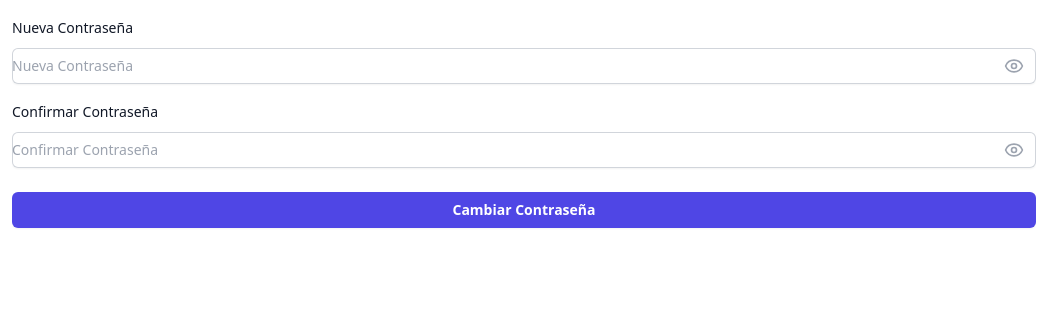
Test: ResetPasswordForm Component › submits form and shows success message
The width and height of the screenshot is (1048, 321).
# Fill form
Type "password123" into the password field labelled "Nueva Contraseña" at (524, 66), box x1=12 y1=48 x2=1036 y2=84
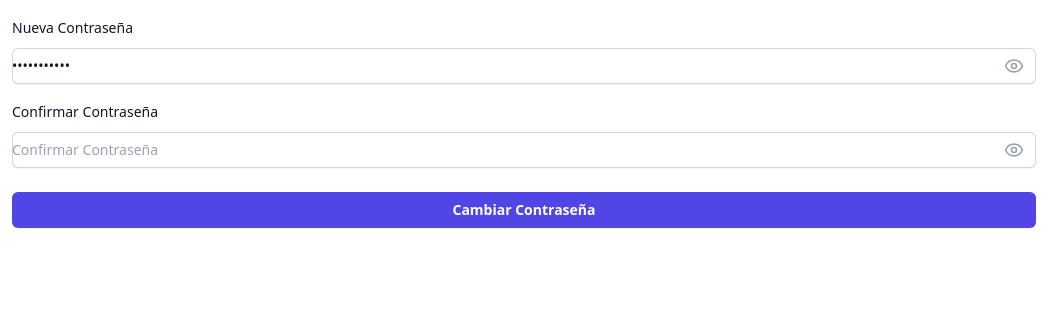
Type "password123" into the password field labelled "Confirmar Contraseña" at (524, 150), box x1=12 y1=132 x2=1036 y2=168
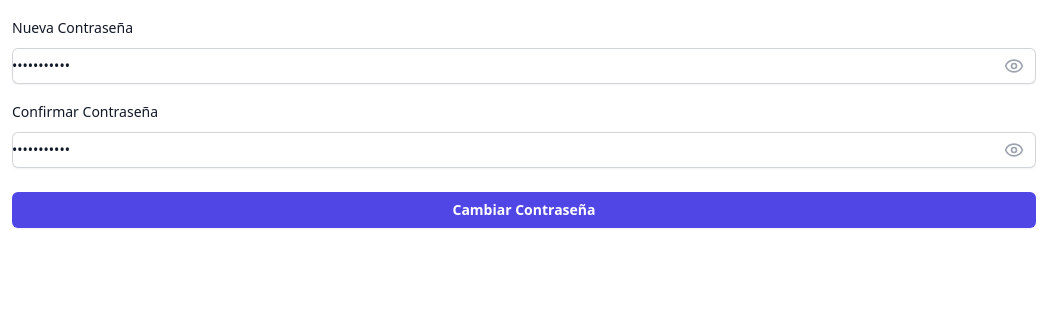
Submit the form "Nueva Contraseña Confirmar Contraseña Cambiar Contraseña"
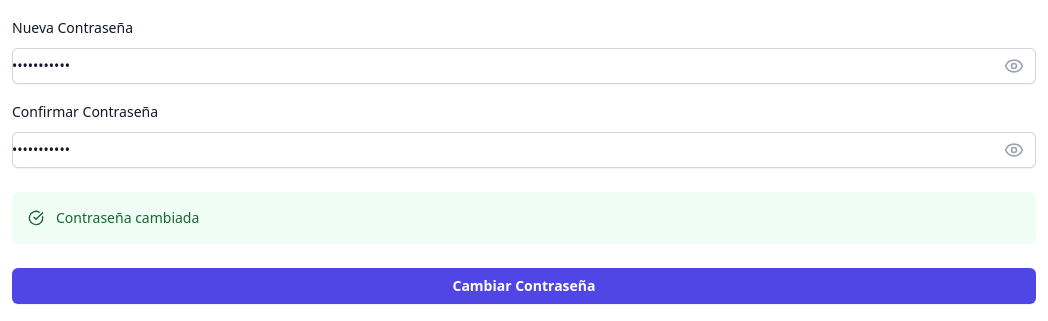
expect the text "Contraseña cambiada" is shown: met, box x1=56 y1=208 x2=199 y2=228
